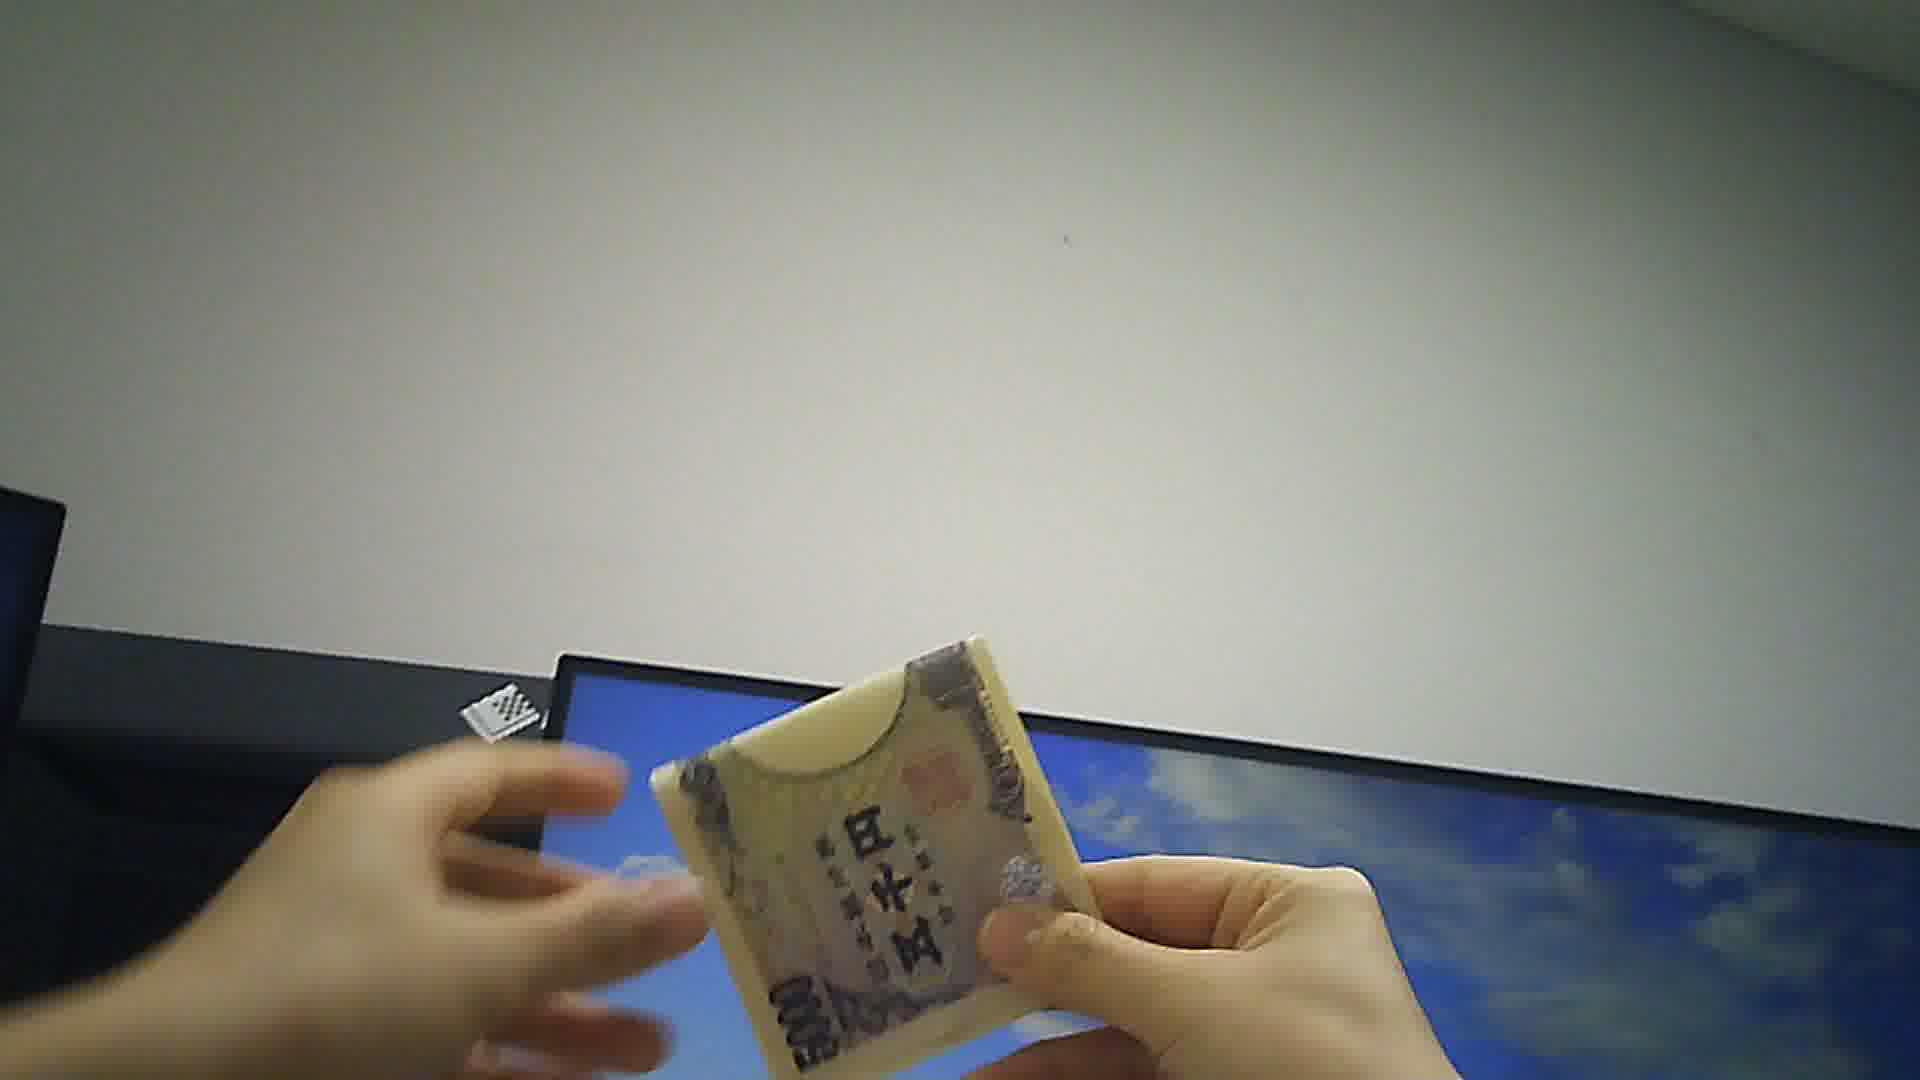5,000 Yen: (655, 624, 1122, 1064)
